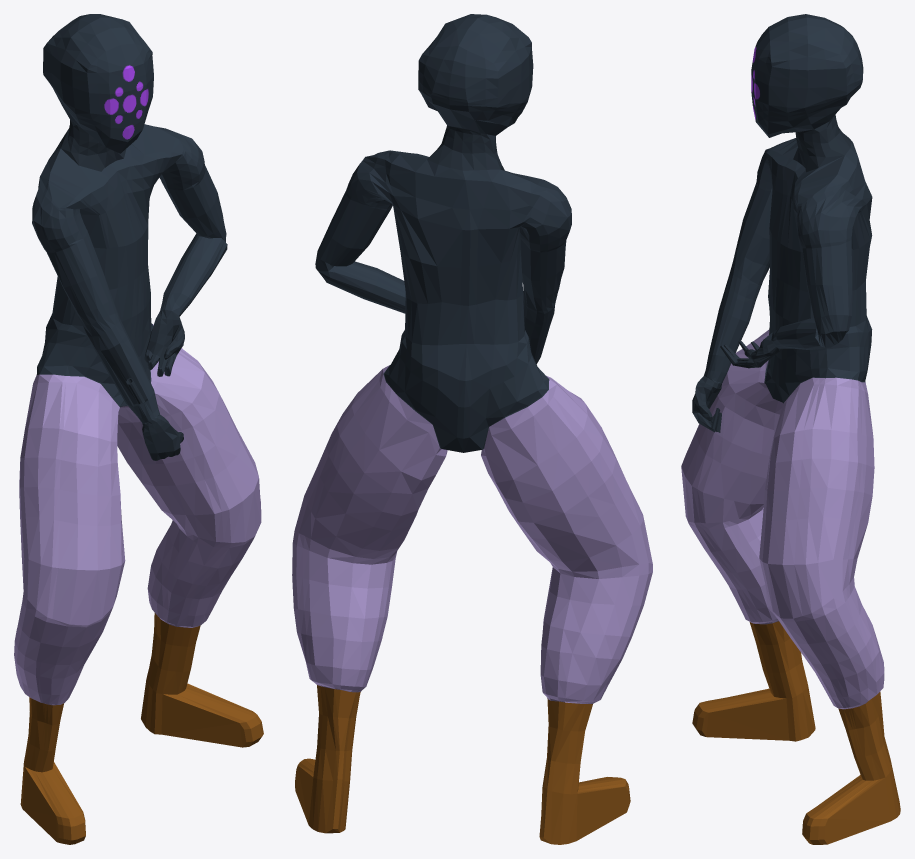
File: Oracle_WL_000015.obj
3 views of the same model, side by side, from view 1: azimuth 30°, elevation 25°; view 2: azimuth 150°, elevation 25°; view 3: azimuth 270°, elevation 25° (orthographic). The views are drawn at different scales.
Visible parts, largest first — view 1: Cube; view 2: Cube; view 3: Cube.
Part boxes in pixels (bbox=[...]): Cube: bbox=[14, 14, 263, 844]; Cube: bbox=[292, 14, 652, 844]; Cube: bbox=[681, 14, 900, 844].
Bounding box in the file's own units: 1.45 × 3.75 × 0.9935.
